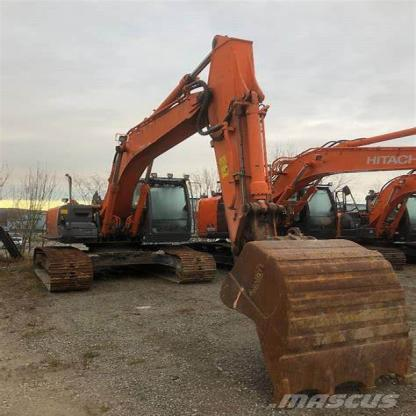excavator: (28, 26, 415, 407)
